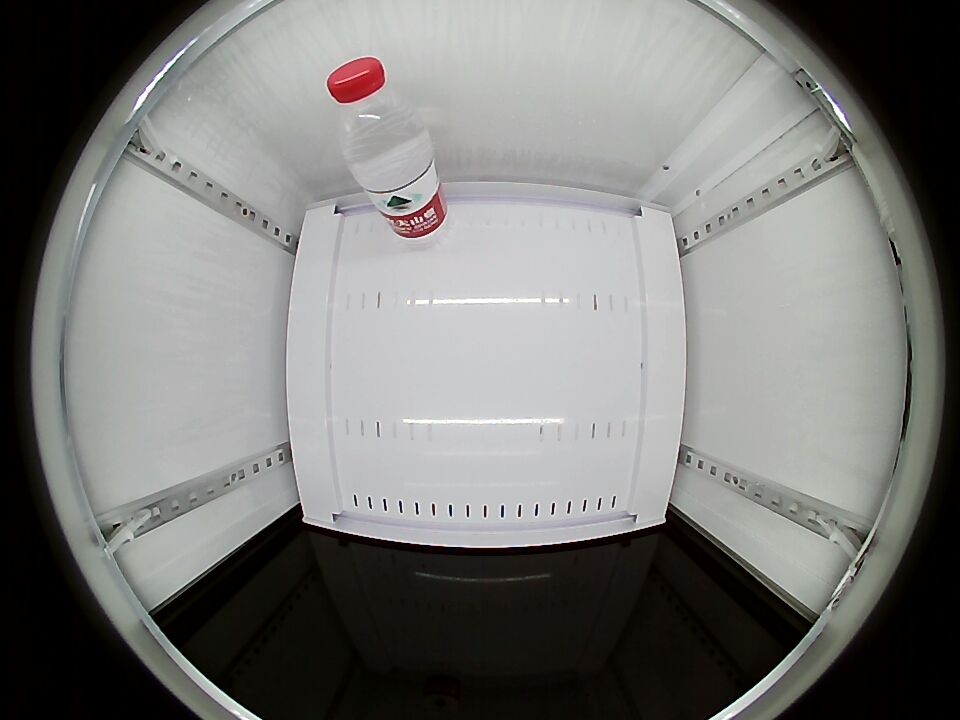nongfushanquan: (326, 57, 428, 168)
